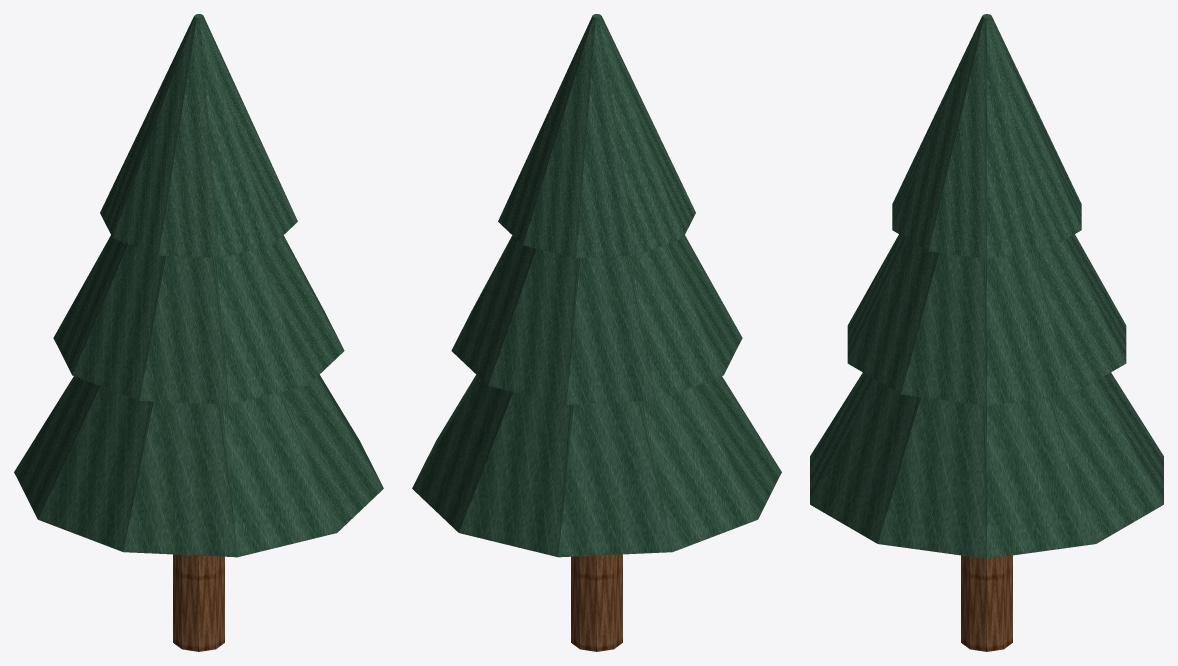
File: pine_tree.obj
3 views of the same model, side by side, from view 1: azimuth 30°, elevation 25°; view 2: azimuth 150°, elevation 25°; view 3: azimuth 270°, elevation 25° (orthographic).
Parts seen in each view (by area): view 1: LowerCrown, MiddleCrown, TopCrown, Trunk; view 2: LowerCrown, MiddleCrown, TopCrown, Trunk; view 3: LowerCrown, MiddleCrown, TopCrown, Trunk.
Part boxes in pixels (x1=…): LowerCrown: x1=14, y1=374, x2=383, y2=557; MiddleCrown: x1=53, y1=235, x2=344, y2=404; TopCrown: x1=100, y1=14, x2=297, y2=258; Trunk: x1=173, y1=554, x2=224, y2=651; LowerCrown: x1=412, y1=374, x2=781, y2=557; MiddleCrown: x1=451, y1=235, x2=742, y2=404; TopCrown: x1=498, y1=14, x2=695, y2=258; Trunk: x1=571, y1=554, x2=622, y2=651; LowerCrown: x1=810, y1=372, x2=1163, y2=558; MiddleCrown: x1=847, y1=234, x2=1126, y2=406; TopCrown: x1=892, y1=14, x2=1081, y2=259; Trunk: x1=961, y1=555, x2=1012, y2=651.
Bounding box in the file's own units: 3.1 × 5.74 × 2.95.
